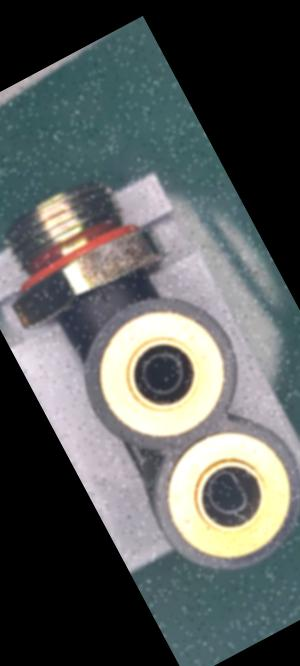craze: (91, 279, 117, 310)
off-centered: (193, 458, 263, 526)
